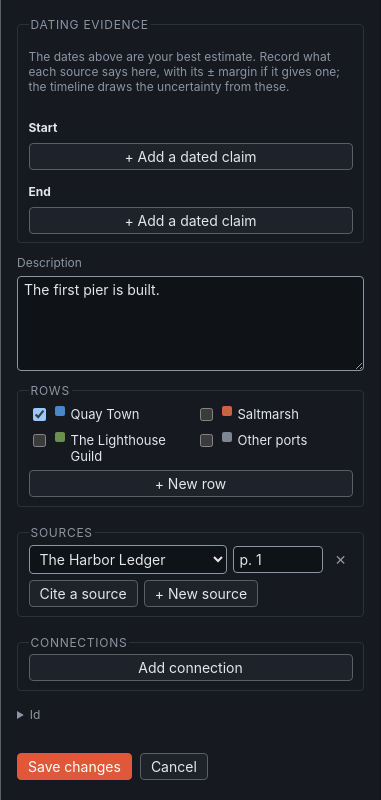
Scenario: month and day fields › refuse an end date before the start date in the same year
(page scrolled)
Click the button "Save changes" at x=74, y=767, box [17,753,132,780]
(page scrolled)
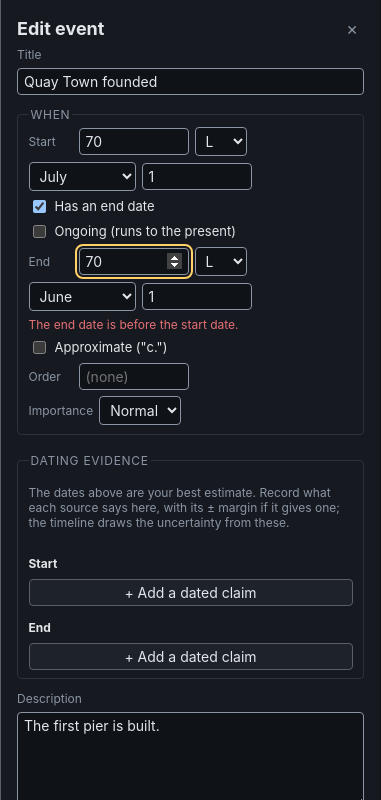
Expected: the text "The end date is before the start date." is shown, [28,317,238,332]
